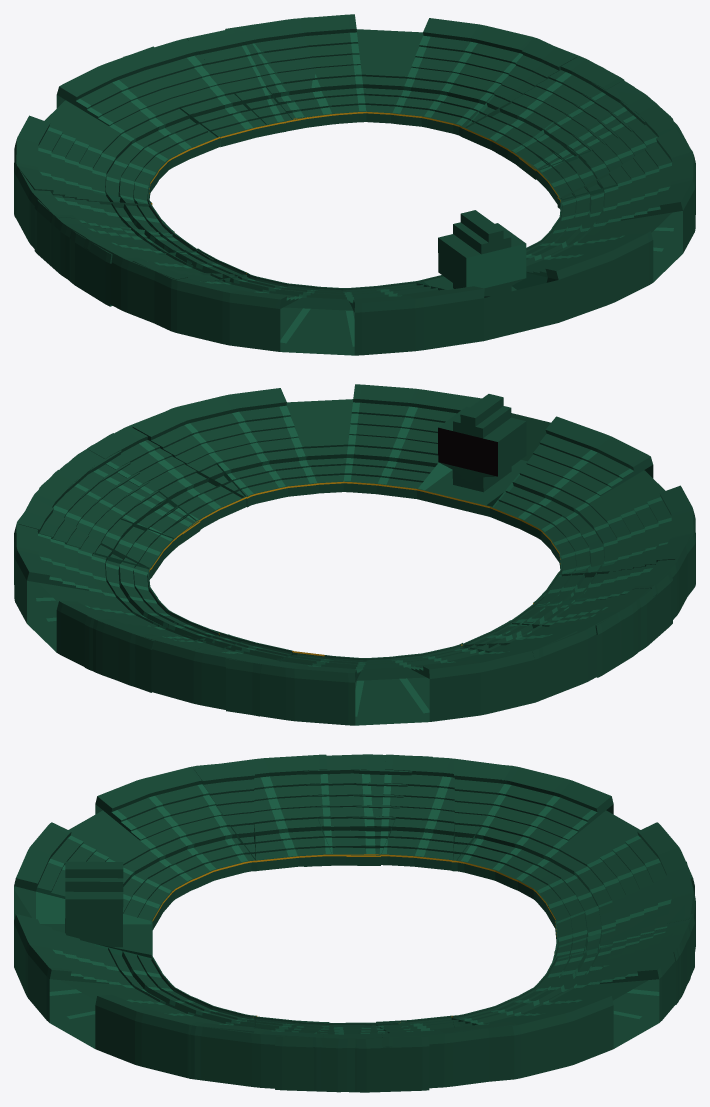
The model's file is doom.fbx.
The picture shows the model from 3 angles, top to bottom: view 1: azimuth 30°, elevation 25°; view 2: azimuth 150°, elevation 25°; view 3: azimuth 270°, elevation 25°; orthographic projection. The views are drawn at different scales.
Visible parts, largest first — view 1: Cube.000; view 2: Cube.000; view 3: Cube.000.
Part boxes in pixels (left/top/right/bottom): Cube.000: left=14, top=14, right=695, bottom=355; Cube.000: left=14, top=384, right=695, bottom=725; Cube.000: left=14, top=754, right=695, bottom=1092.
Bounding box in the file's own units: 25284 × 3475 × 25475.
